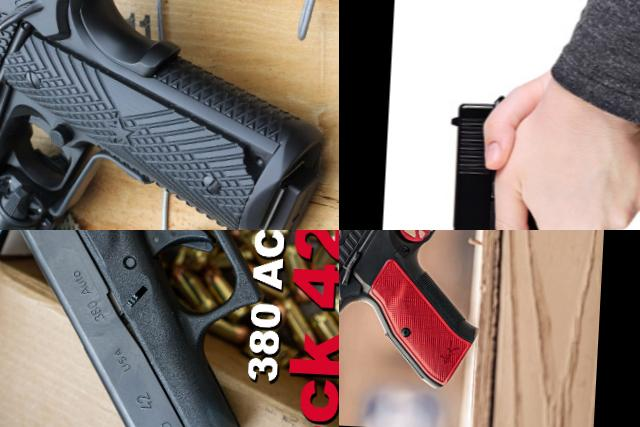handgun: (0, 0, 339, 230), (0, 230, 294, 427), (434, 82, 640, 230), (339, 230, 493, 408)
